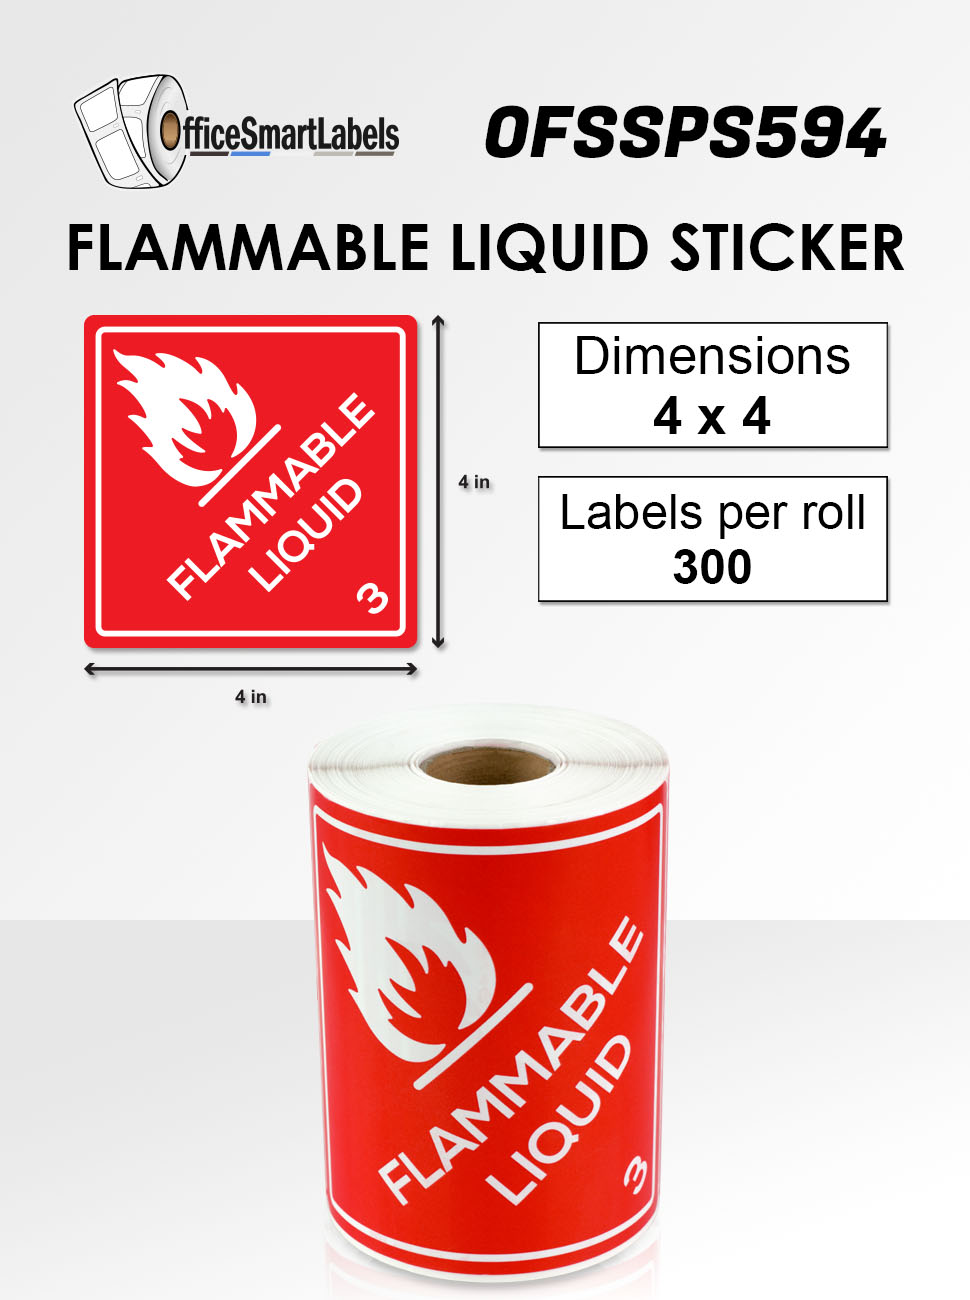FlammableLiquid: (310, 802, 659, 1204), (79, 304, 420, 642)
